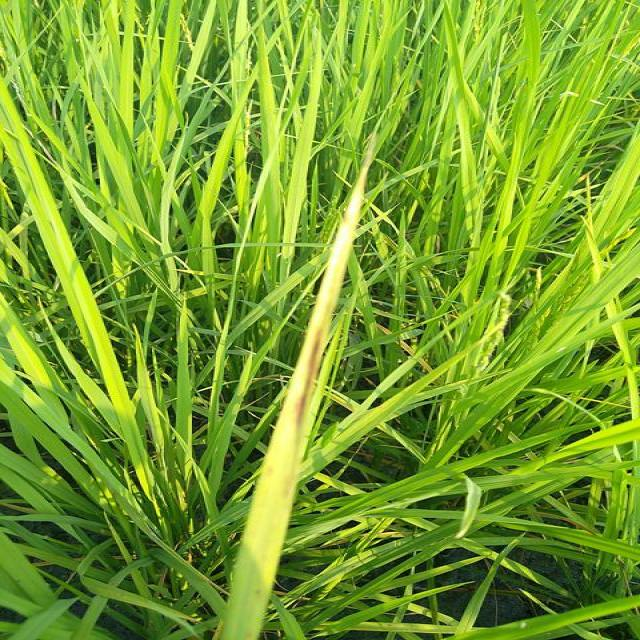Leaf Blight: (216, 132, 375, 639)
